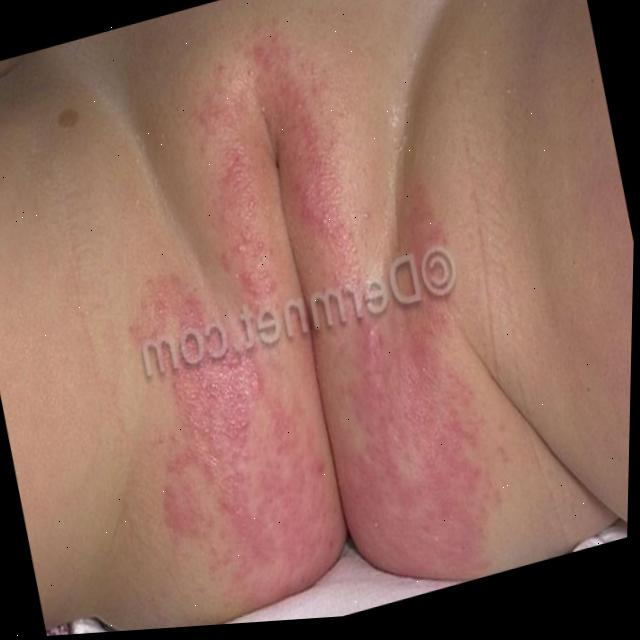Eczema: (83, 0, 519, 634)
